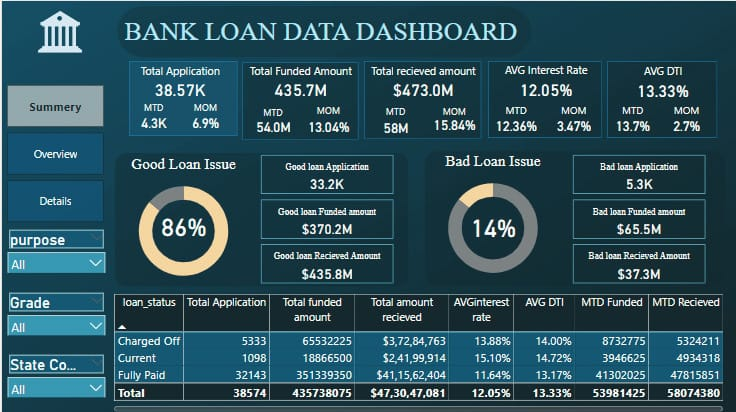

The dashboard page shown, as its layout file describes it:
{"tool":"powerbi","page":{"name":"Summery","canvas":[1280,720],"ordinal":1},"visuals":[{"type":"image","box":[0,0,202.4,107.1],"z":0},{"type":"shape","box":[200.3,8.7,722.7,89.3],"z":1000},{"type":"shape","box":[222.8,104.5,189.2,130.8],"z":2000,"group":"g2"},{"type":"shape","box":[632.3,104.6,204.6,135.4],"z":2000,"group":"g4"},{"type":"shape","box":[197.6,264.3,511.9,233.3],"z":2000},{"type":"shape","box":[848.1,104.6,198.5,133.8],"z":3000,"group":"g5"},{"type":"card","fields":{"Values":["financial_loandata bankloan.Total Application"]},"box":[222,105,178.5,67.5],"z":3000,"group":"g2"},{"type":"shape","box":[738.1,261.9,523.8,235.7],"z":3000},{"type":"card","fields":{"Values":["financial_loandata bankloan.Total amount recieved"]},"box":[636.7,104.6,200.3,69.7],"z":4000,"group":"g4"},{"type":"card","fields":{"Values":["financial_loandata bankloan.MTD"]},"box":[223.1,168.3,82.7,61],"z":4000,"group":"g2"},{"type":"donutChart","title":"Good Loan Issue","fields":{"Category":["financial_loandata bankloan.good vs bad"],"Y":["financial_loandata bankloan.Total Application"]},"box":[185,267.8,263.4,235.1],"z":4000},{"type":"card","fields":{"Values":["financial_loandata bankloan.MOM"]},"box":[308.9,169.1,92.3,60],"z":5000,"group":"g2"},{"type":"card","fields":{"Values":["financial_loandata bankloan.MTDrecieved"]},"box":[633.5,176.3,106.7,63.1],"z":5000,"group":"g4"},{"type":"card","fields":{"Values":["financial_loandata bankloan.good loan%"]},"box":[260.5,339.5,114,102.3],"z":5000},{"type":"shape","box":[418.4,104.5,203.1,135.4],"z":6000,"group":"g3"},{"type":"card","fields":{"Values":["financial_loandata bankloan.MOMrecieved"]},"box":[741.5,175.4,95.4,55.4],"z":6000,"group":"g4"},{"type":"donutChart","title":"Bad Loan Issue","fields":{"Category":["financial_loandata bankloan.good vs bad"],"Y":["financial_loandata bankloan.Total Application"]},"box":[726.2,263.1,261.5,235.4],"z":6000},{"type":"shape","box":[1055.8,104.6,192.3,133.8],"z":7000,"group":"g6"},{"type":"card","fields":{"Values":["financial_loandata bankloan.Bad loan%"]},"box":[807.7,355.4,98.5,72.3],"z":7000},{"type":"card","fields":{"Values":["financial_loandata bankloan.AVGinterest rate"]},"box":[851.3,102,195.9,71.8],"z":8000,"group":"g5"},{"type":"tableEx","fields":{"Values":["financial_loandata bankloan.loan_status","financial_loandata bankloan.Total Application","financial_loandata bankloan.Total funded amount","financial_loandata bankloan.Total amount recieved","financial_loandata bankloan.AVGinterest rate","financial_loandata bankloan.AVG Dti","financial_loandata bankloan.MTDfunded","financial_loandata bankloan.MTDrecieved"]},"box":[190,505,1071.7,215],"z":8000},{"type":"card","fields":{"Values":["financial_loandata bankloan.MTD Avg"]},"box":[846.6,172.3,101.5,63.1],"z":9000,"group":"g5"},{"type":"cardVisual","fields":{"Data":["financial_loandata bankloan.Good loan Application","financial_loandata bankloan.Good loan Funded amount","financial_loandata bankloan.Good loan Recieved Amount"]},"box":[446.5,262.8,241.9,234.9],"z":9000},{"type":"card","fields":{"Values":["financial_loandata bankloan.MOM interest"]},"box":[949.7,172.3,96.9,63.1],"z":10000,"group":"g5"},{"type":"cardVisual","fields":{"Data":["financial_loandata bankloan.Bad loan Application","financial_loandata bankloan.Bad loan Funded amount","financial_loandata bankloan.Bad loan Recieved Amount"]},"box":[990.8,263.1,241.5,235.4],"z":10000},{"type":"card","fields":{"Values":["financial_loandata bankloan.AVG Dti"]},"box":[1055.9,104.1,195.9,71.8],"z":11000,"group":"g6"},{"type":"slicer","fields":{"Values":["financial_loandata bankloan.purpose"]},"box":[0,394,190,80],"z":11000},{"type":"card","fields":{"Values":["Sum(financial_loandata bankloan.loan_amount)"]},"box":[419.9,103,201.5,67.7],"z":12000,"group":"g3"},{"type":"card","fields":{"Values":["financial_loandata bankloan.MTD DTI"]},"box":[1055.8,172.3,89.2,63.1],"z":12000,"group":"g6"},{"type":"slicer","fields":{"Values":["financial_loandata bankloan.Grade"]},"box":[0,504.8,190.5,78.6],"z":12000},{"type":"card","fields":{"Values":["financial_loandata bankloan.MOM DTI"]},"box":[1138.6,171.6,113.2,63.1],"z":13000,"group":"g6"},{"type":"card","fields":{"Values":["financial_loandata bankloan.MTDfunded"]},"box":[432.2,175.3,80,58.5],"z":13000,"group":"g7"},{"type":"slicer","fields":{"Values":["financial_loandata bankloan.address_state"]},"box":[0,611.9,190.5,78.6],"z":13000},{"type":"group","id":"g1","title":"Group 7","box":[222,102,1029.8,138],"z":14000},{"type":"group","id":"g2","title":"Group 1","box":[222,104.5,189.4,130.6],"z":14000,"group":"g1"},{"type":"card","fields":{"Values":["financial_loandata bankloan.MOM funded"]},"box":[518.4,172.2,103.1,63.1],"z":14000,"group":"g7"},{"type":"group","id":"g3","title":"Group 2","box":[418.4,103,203.1,136.9],"z":15000,"group":"g1"},{"type":"pageNavigator","box":[8.7,145.9,169.8,239.5],"z":15000},{"type":"group","id":"g4","title":"Group 3","box":[632.3,104.6,204.6,135.4],"z":16000,"group":"g1"},{"type":"group","id":"g5","title":"Group 4","box":[846.6,102,200.6,136.4],"z":17000,"group":"g1"},{"type":"group","id":"g6","title":"Group 5","box":[1055.8,104.1,196,134.4],"z":18000,"group":"g1"},{"type":"group","id":"g7","title":"Group 6","box":[432.2,172.2,189.2,63.1],"z":27004,"group":"g3"}]}

Visuals, with their boxes in screenshot pixels (x1, y1, x2, y2), scaled from the page's 1280x720 canvas onto the 736x412 screenshot:
image: bbox=[0, 0, 116, 61]
shape: bbox=[115, 5, 531, 56]
shape: bbox=[128, 60, 237, 135]
shape: bbox=[364, 60, 481, 137]
shape: bbox=[114, 151, 408, 285]
shape: bbox=[488, 60, 602, 136]
card - financial_loandata bankloan.Total Application: bbox=[128, 60, 230, 99]
shape: bbox=[424, 150, 726, 285]
card - financial_loandata bankloan.Total amount recieved: bbox=[366, 60, 481, 100]
card - financial_loandata bankloan.MTD: bbox=[128, 96, 176, 131]
"Good Loan Issue" donutChart: bbox=[106, 153, 258, 288]
card - financial_loandata bankloan.MOM: bbox=[178, 97, 231, 131]
card - financial_loandata bankloan.MTDrecieved: bbox=[364, 101, 426, 137]
card - financial_loandata bankloan.good loan%: bbox=[150, 194, 215, 253]
shape: bbox=[241, 60, 357, 137]
card - financial_loandata bankloan.MOMrecieved: bbox=[426, 100, 481, 132]
"Bad Loan Issue" donutChart: bbox=[418, 151, 568, 285]
shape: bbox=[607, 60, 718, 136]
card - financial_loandata bankloan.Bad loan%: bbox=[464, 203, 521, 245]
card - financial_loandata bankloan.AVGinterest rate: bbox=[489, 58, 602, 99]
tableEx - financial_loandata bankloan.loan_status x financial_loandata bankloan.Total Application: bbox=[109, 289, 725, 411]
card - financial_loandata bankloan.MTD Avg: bbox=[487, 99, 545, 135]
cardVisual - financial_loandata bankloan.Good loan Application x financial_loandata bankloan.Good loan Funded amount: bbox=[257, 150, 396, 285]
card - financial_loandata bankloan.MOM interest: bbox=[546, 99, 602, 135]
cardVisual - financial_loandata bankloan.Bad loan Application x financial_loandata bankloan.Bad loan Funded amount: bbox=[570, 151, 709, 285]
card - financial_loandata bankloan.AVG Dti: bbox=[607, 60, 720, 101]
slicer - financial_loandata bankloan.purpose: bbox=[0, 225, 109, 271]
card - Sum(financial_loandata bankloan.loan_amount): bbox=[241, 59, 357, 98]
card - financial_loandata bankloan.MTD DTI: bbox=[607, 99, 658, 135]
slicer - financial_loandata bankloan.Grade: bbox=[0, 289, 110, 334]
card - financial_loandata bankloan.MOM DTI: bbox=[655, 98, 720, 134]
card - financial_loandata bankloan.MTDfunded: bbox=[249, 100, 295, 134]
slicer - financial_loandata bankloan.address_state: bbox=[0, 350, 110, 395]
"Group 7" group: bbox=[128, 58, 720, 137]
"Group 1" group: bbox=[128, 60, 237, 135]
card - financial_loandata bankloan.MOM funded: bbox=[298, 99, 357, 135]
"Group 2" group: bbox=[241, 59, 357, 137]
pageNavigator: bbox=[5, 83, 103, 221]
"Group 3" group: bbox=[364, 60, 481, 137]
"Group 4" group: bbox=[487, 58, 602, 136]
"Group 5" group: bbox=[607, 60, 720, 136]
"Group 6" group: bbox=[249, 99, 357, 135]
